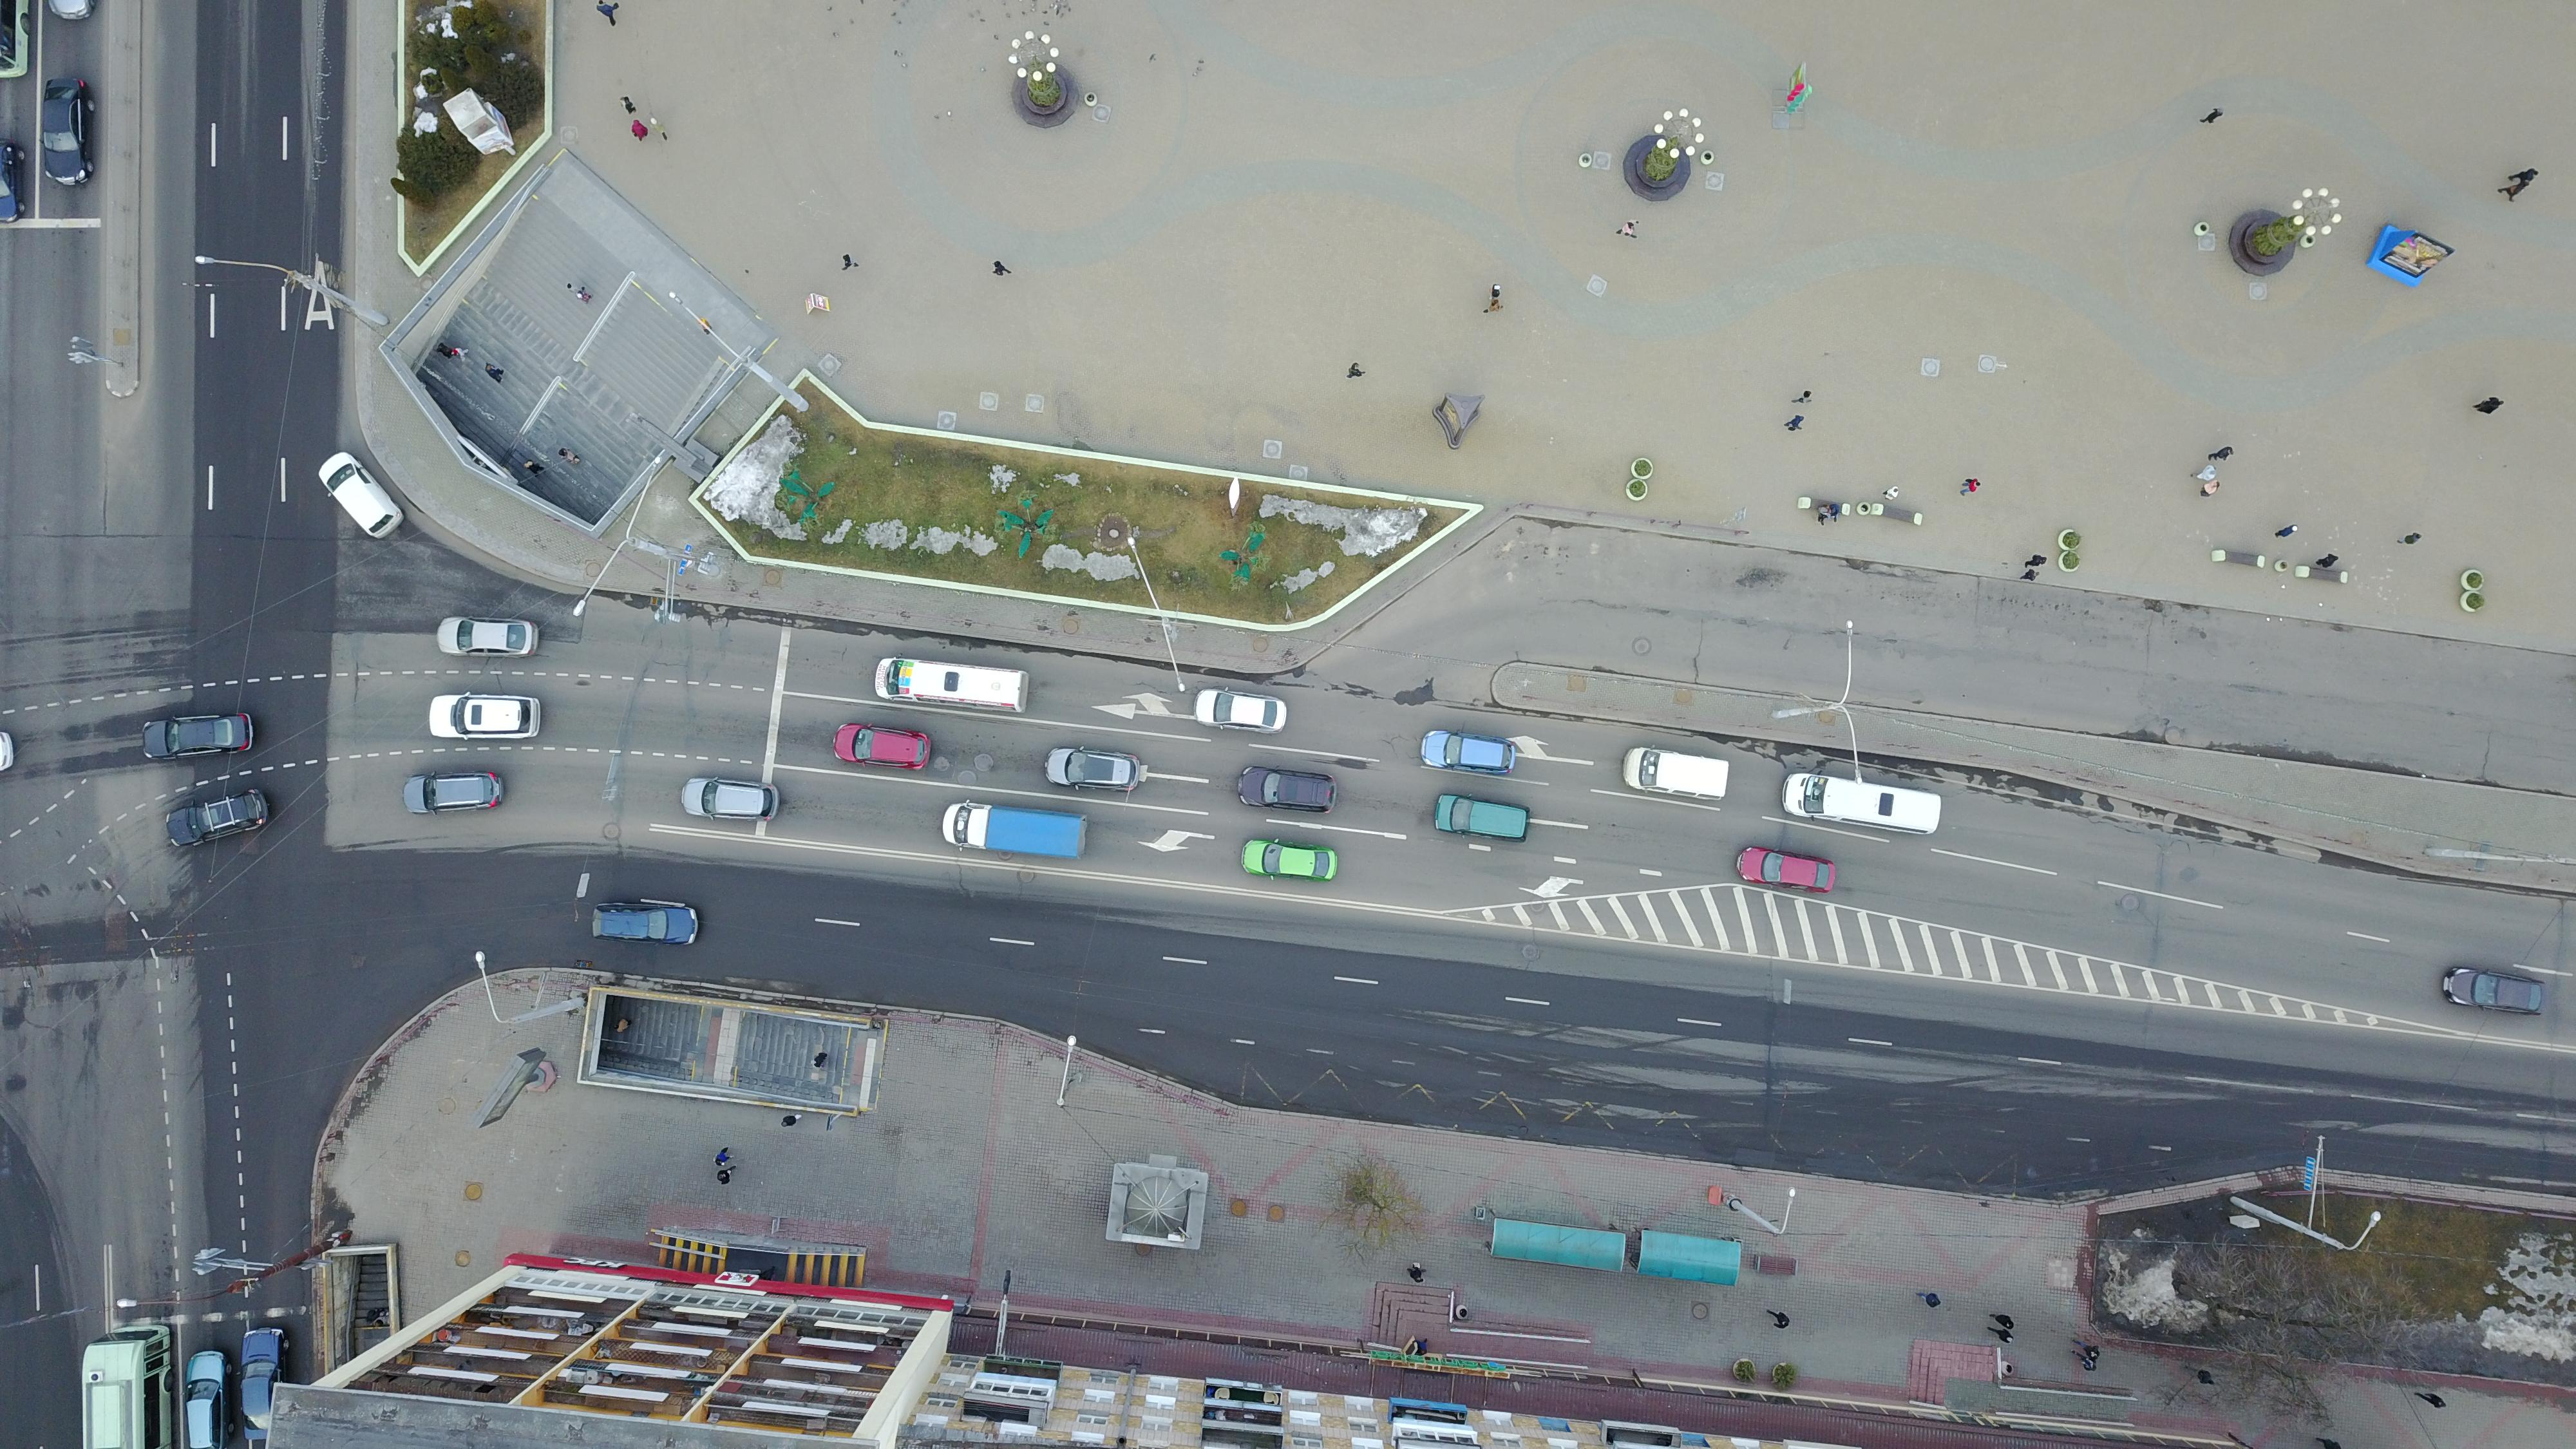car: (313, 449, 407, 540), (1617, 743, 1732, 807), (2436, 962, 2551, 1024), (163, 786, 271, 851), (37, 76, 97, 193), (587, 895, 704, 952), (239, 1323, 295, 1438), (823, 720, 938, 775), (1734, 842, 1840, 899), (1040, 743, 1150, 796), (1431, 789, 1532, 846), (426, 692, 545, 740), (1231, 763, 1339, 814), (1237, 835, 1345, 886), (134, 709, 257, 754), (678, 771, 782, 823), (1419, 725, 1518, 778), (400, 768, 508, 816), (433, 614, 541, 662), (182, 1348, 232, 1447), (1191, 688, 1292, 734)
